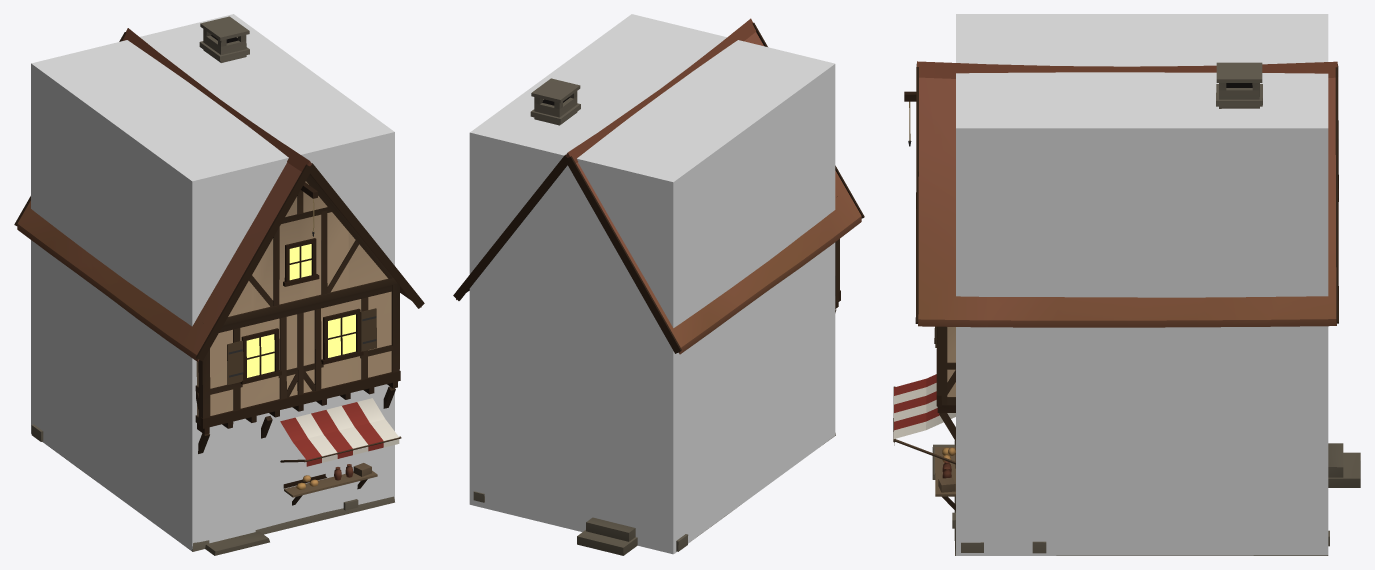
File: house_d.glb
3 renders of one model, left to right at view 1: azimuth 30°, elevation 25°; view 2: azimuth 150°, elevation 25°; view 3: azimuth 270°, elevation 25°, orthographic. The views are drawn at different scales.
Visible parts, largest first — view 1: COL_body, house_d; view 2: COL_body, house_d; view 3: COL_body, house_d.
Part boxes in pixels (left/top/right/bottom): COL_body: left=31, top=14, right=394, bottom=550; house_d: left=14, top=16, right=424, bottom=555; COL_body: left=469, top=14, right=835, bottom=554; house_d: left=453, top=18, right=864, bottom=555; COL_body: left=956, top=14, right=1328, bottom=555; house_d: left=893, top=61, right=1360, bottom=555.
Size of the model in its own units: 5.89 by 9.81 by 9.06.
